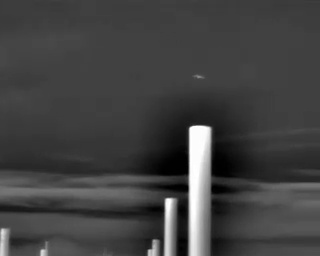BIRD: (191, 72, 207, 83)
